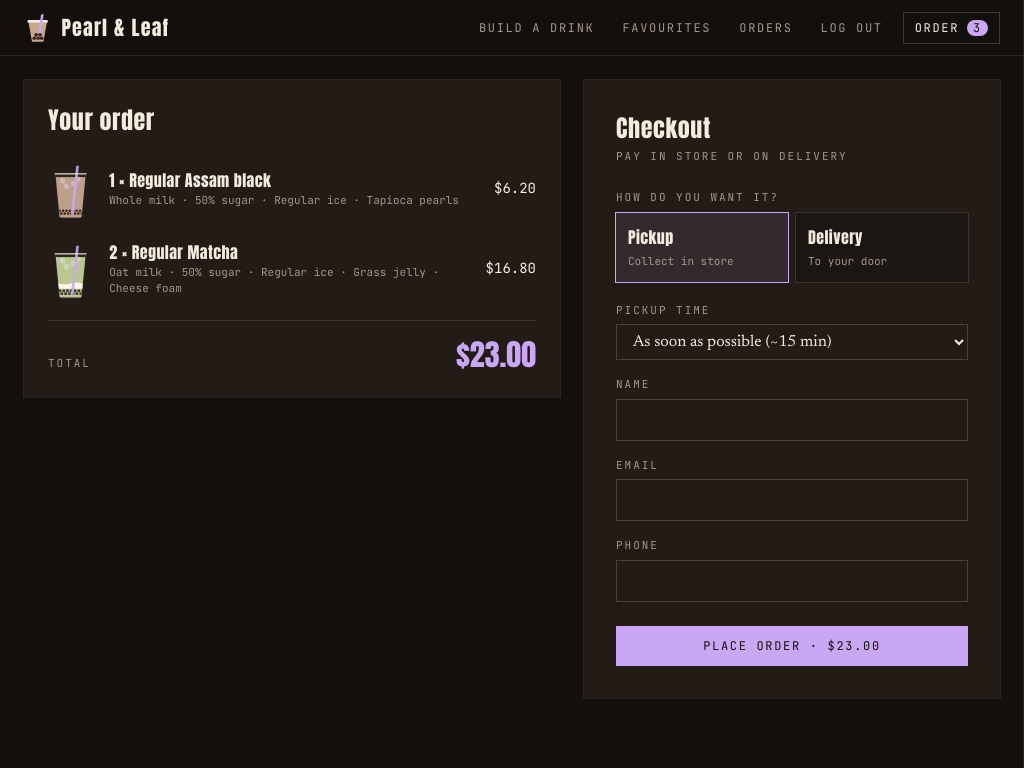
Test: <CheckoutPage /> › does not send an order with an invalid phone number
Expected: the heading "Checkout" is shown, [616, 110, 711, 146]
Type "Ada Lovelace" into the field labelled "Name" at point(792, 420), box [616, 398, 968, 440]
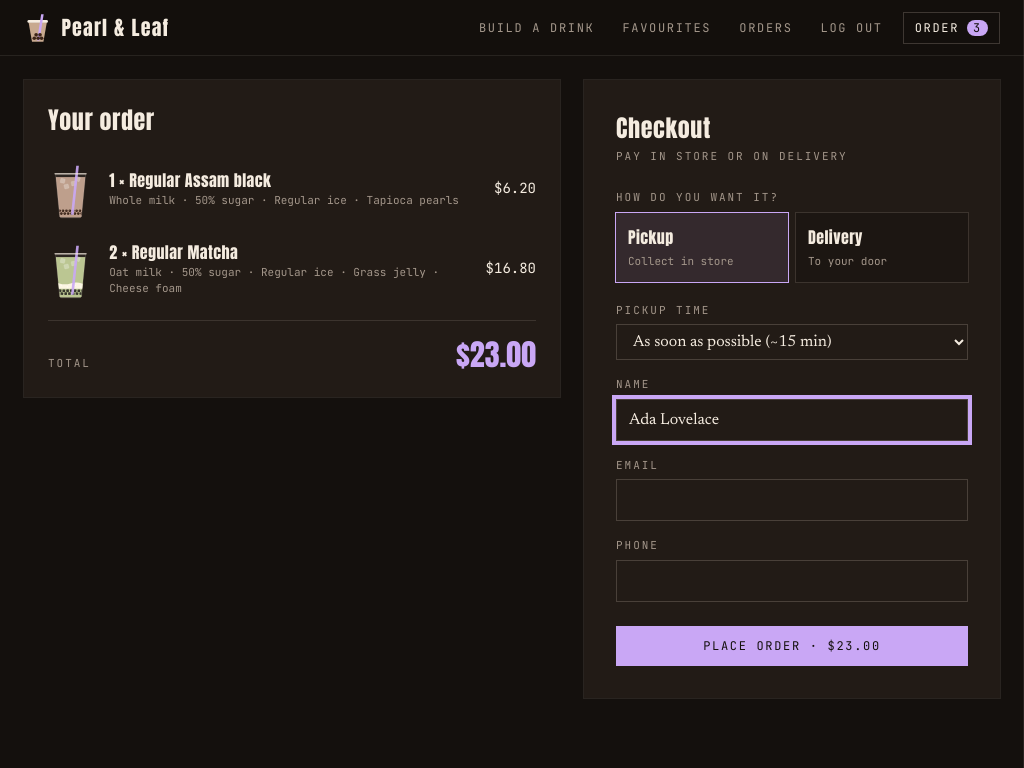
Type "ada@example.com" into the field labelled "Email" at point(792, 500), box [616, 479, 968, 521]
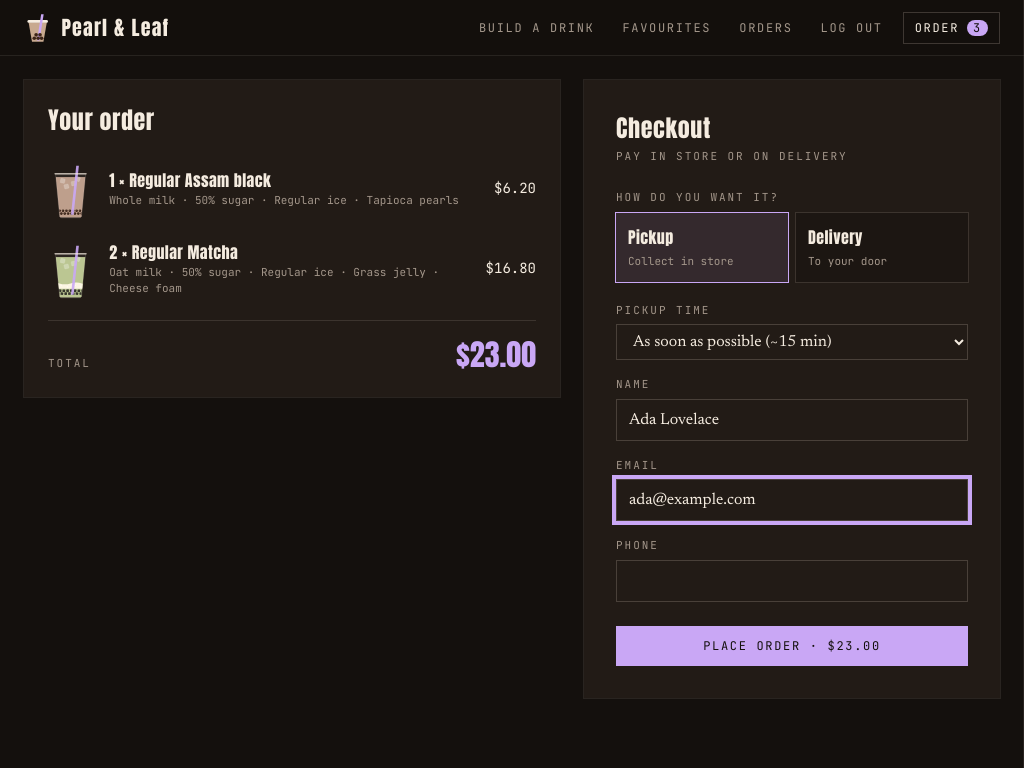
Type "call me" into the field labelled "Phone" at point(792, 580), box [616, 560, 968, 602]
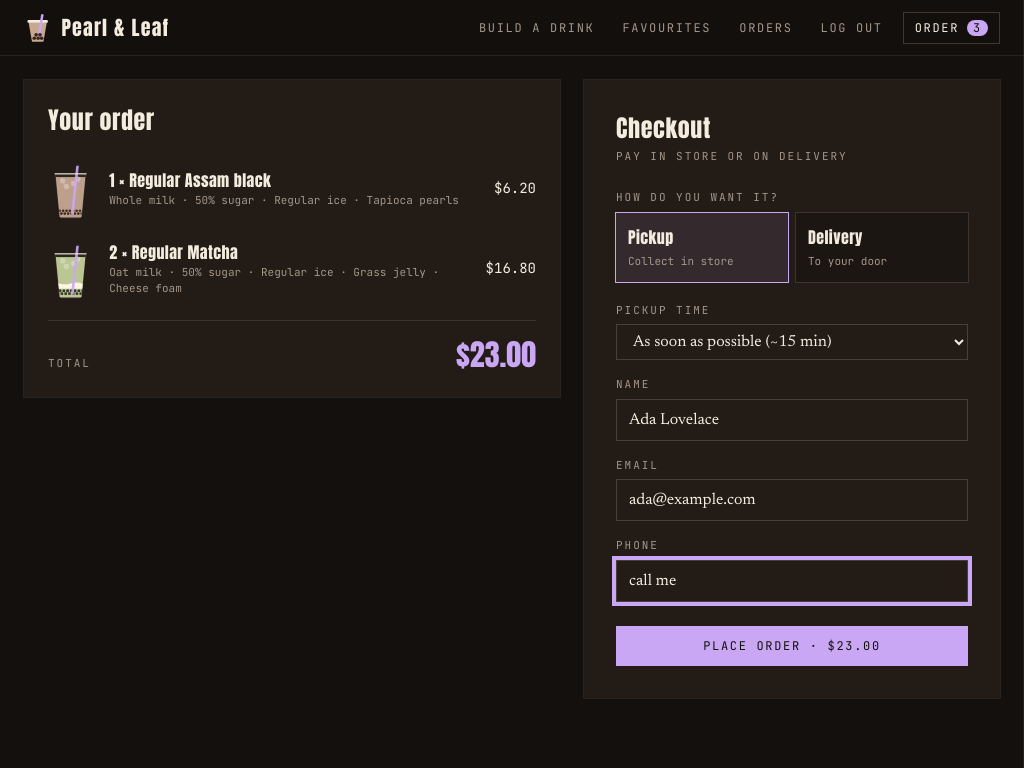
Click the button "Place order · $23.00" at point(792, 646), box [616, 626, 968, 666]
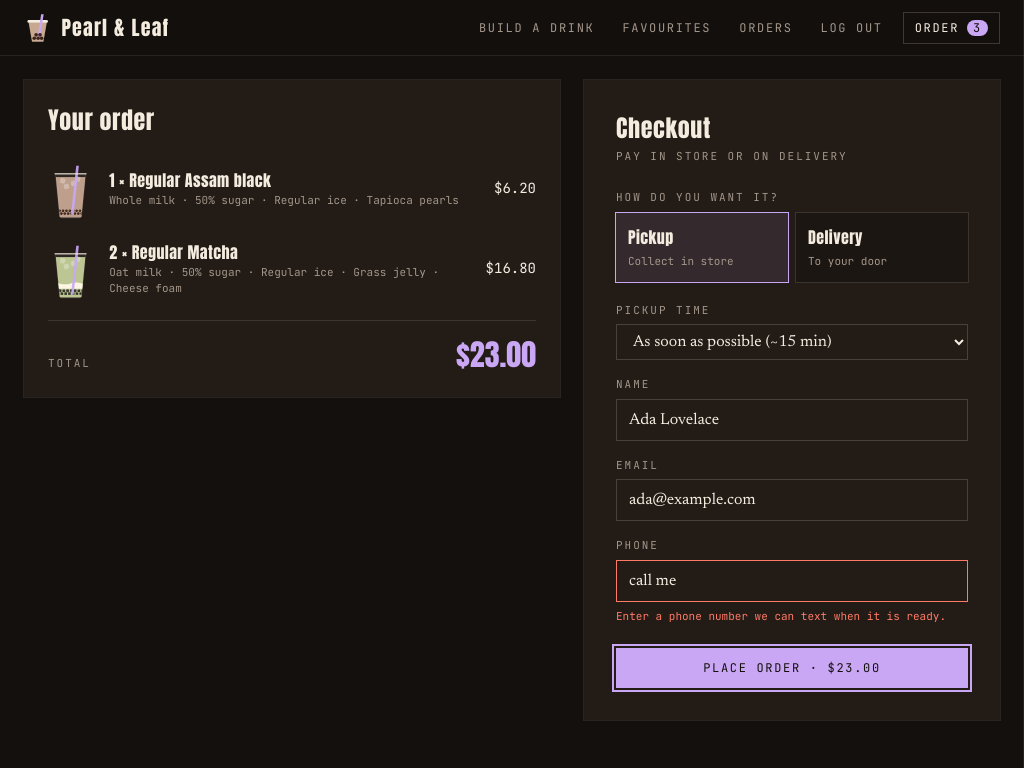
Expected: the text "Enter a phone number we can text when it is ready." is shown, [616, 608, 968, 624]
